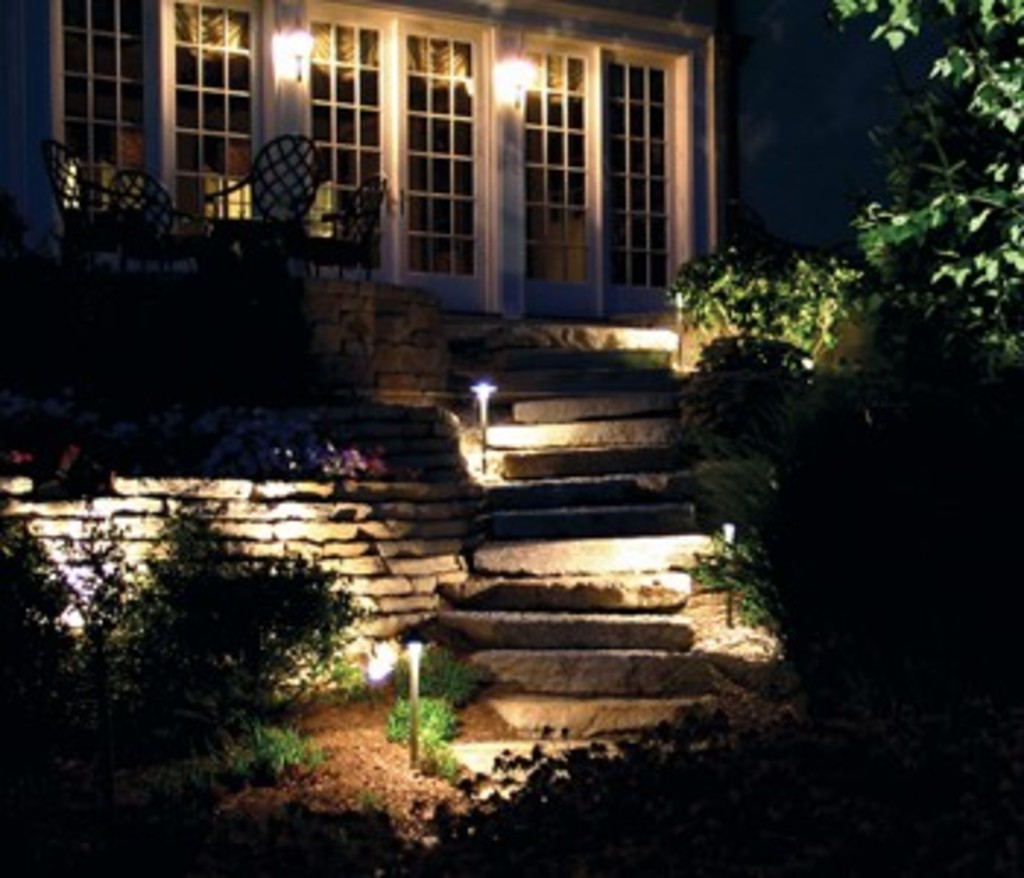Tree: (663, 0, 1024, 878)
